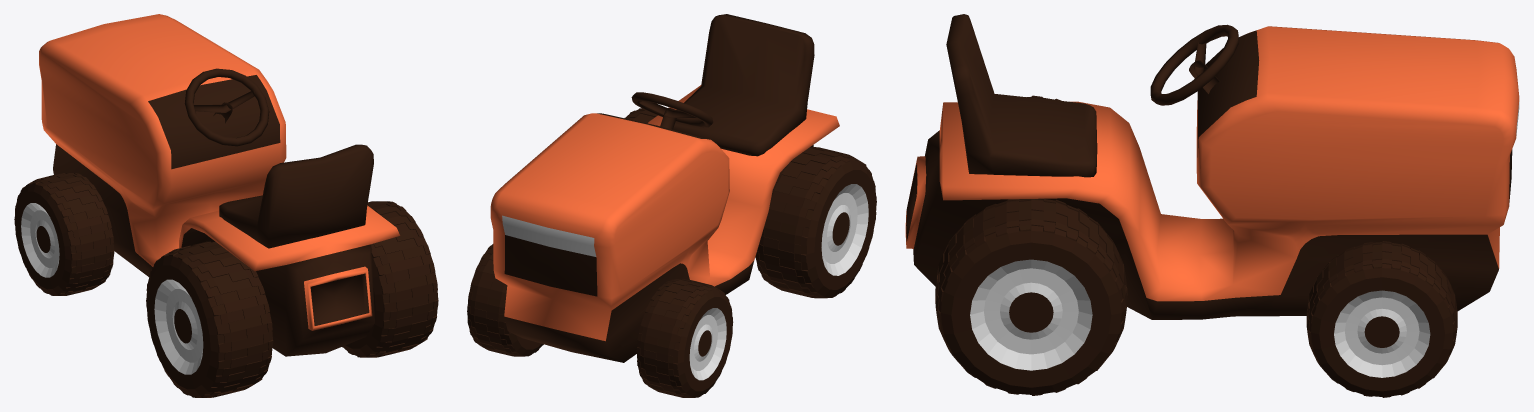
The model's file is lawn-tractor.glb.
The picture shows the model from 3 angles, left to right: view 1: azimuth 30°, elevation 25°; view 2: azimuth 150°, elevation 25°; view 3: azimuth 270°, elevation 25°; orthographic projection. The views are drawn at different scales.
Visible parts, largest first — view 1: body, wheel-rear-left, wheel-front-left, wheel-rear-right; view 2: body, wheel-rear-left, wheel-front-left, wheel-front-right; view 3: body, wheel-rear-right, wheel-front-right.
Part boxes in pixels (x1,y1,x2,y2): body: (39,14,400,356); wheel-rear-left: (146,241,273,397); wheel-front-left: (14,173,114,295); wheel-rear-right: (342,201,438,357); body: (490,14,839,362); wheel-rear-left: (755,147,876,298); wheel-front-left: (636,279,733,397); wheel-front-right: (467,244,543,356); body: (905,14,1519,319); wheel-rear-right: (935,198,1127,395); wheel-front-right: (1306,241,1457,397).
Bounding box in the file's own units: 1.07 × 1.09 × 2.
